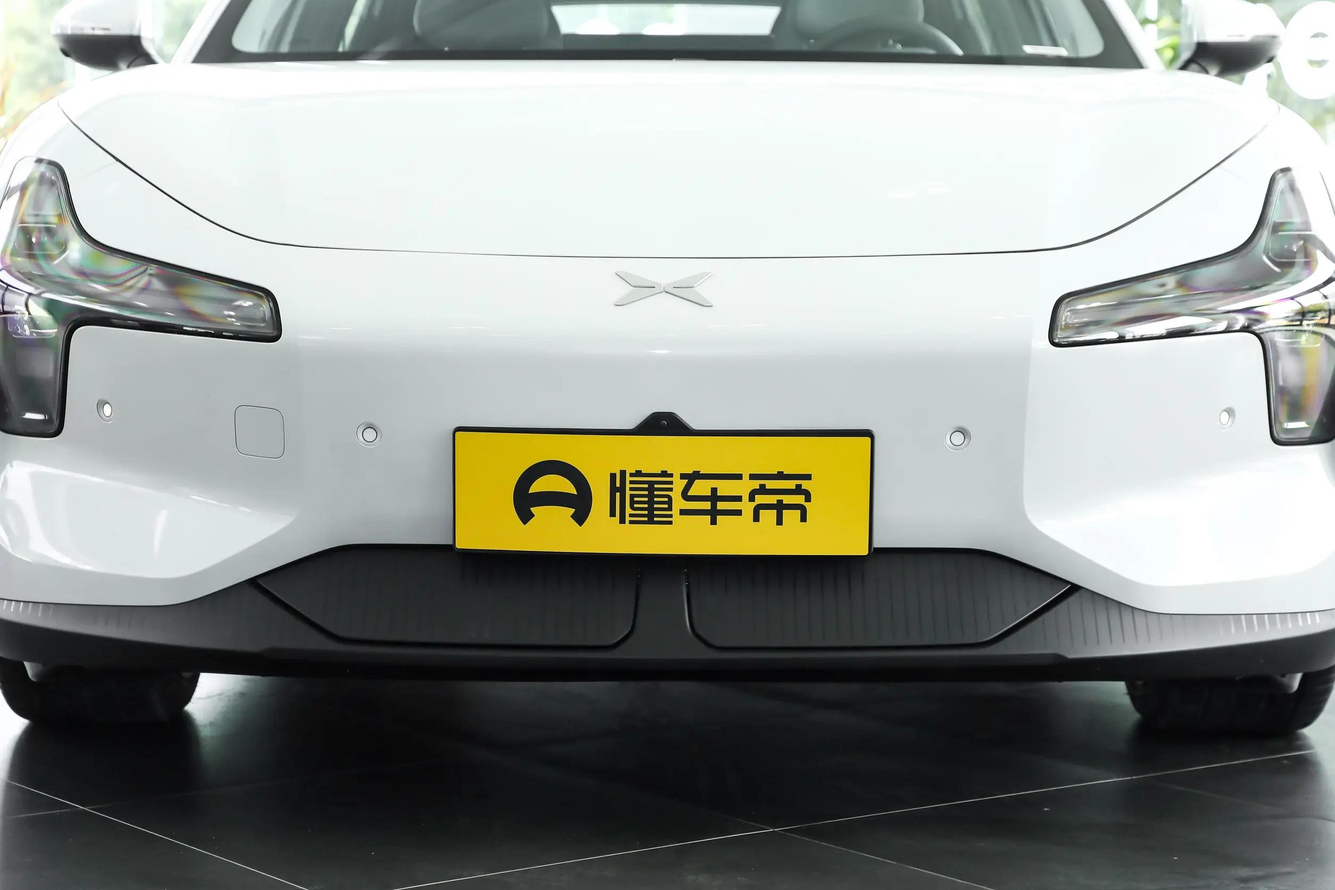XPeng Motors: (614, 270, 712, 307)
